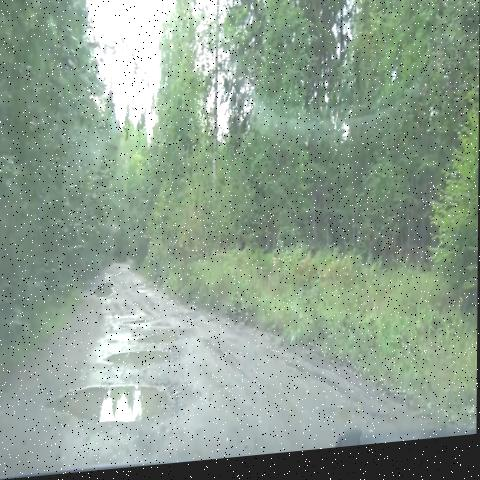pothole: (42, 364, 181, 448), (98, 342, 182, 380), (123, 324, 186, 350), (87, 266, 119, 314), (112, 308, 145, 339)
